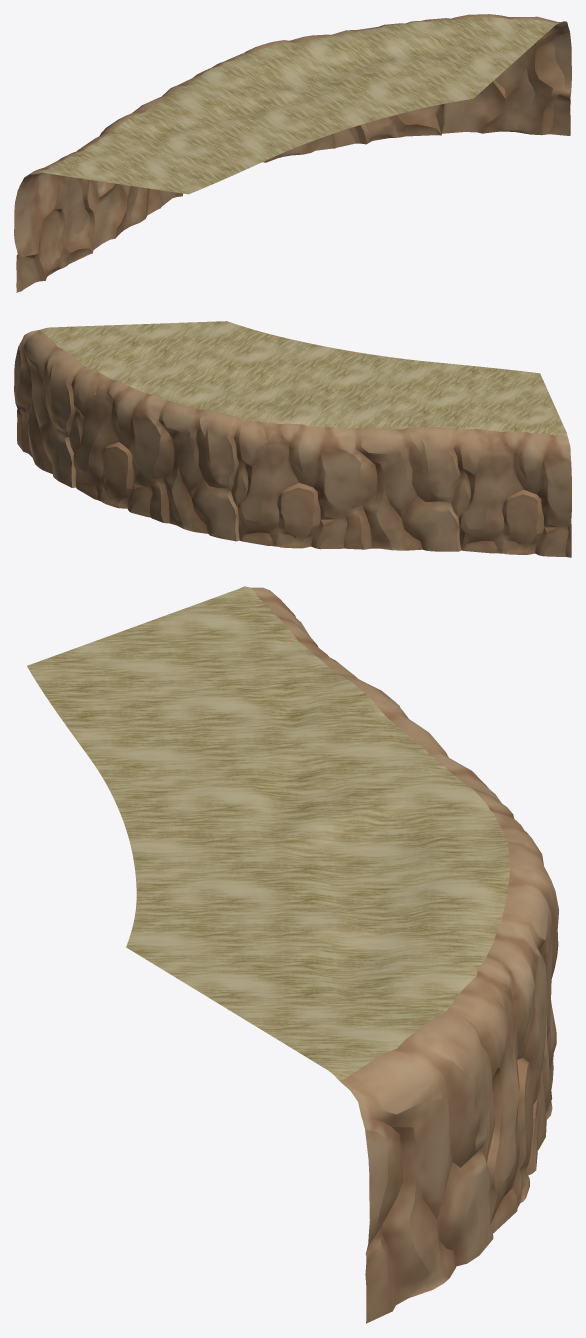
Rendered from SM_ENV_KNFRST_Cliff_Da.FBX.
The picture shows the model from 3 angles, top to bottom: view 1: azimuth 30°, elevation 25°; view 2: azimuth 150°, elevation 25°; view 3: azimuth 270°, elevation 25°; orthographic projection. The views are drawn at different scales.
Parts seen in each view (by area): view 1: SM_ENV_KNFRST_Cliff_Da; view 2: SM_ENV_KNFRST_Cliff_Da; view 3: SM_ENV_KNFRST_Cliff_Da.
Boxes of the visible parts, x1=… form: SM_ENV_KNFRST_Cliff_Da: x1=14, y1=14, x2=571, y2=292; SM_ENV_KNFRST_Cliff_Da: x1=14, y1=321, x2=571, y2=557; SM_ENV_KNFRST_Cliff_Da: x1=27, y1=586, x2=558, y2=1323.
Size of the model in its own units: 4643 by 961 by 1993.
